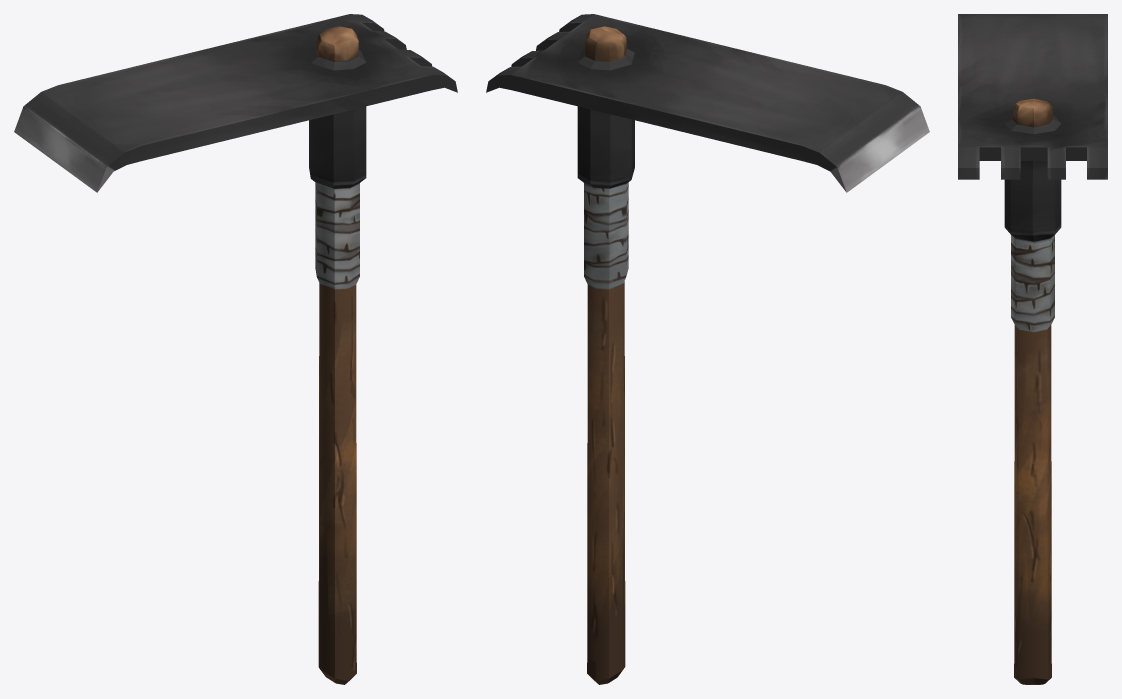
File: SurvivalTools_Hoe.fbx
3 renders of one model, left to right at view 1: azimuth 30°, elevation 25°; view 2: azimuth 150°, elevation 25°; view 3: azimuth 270°, elevation 25°, orthographic. The views are drawn at different scales.
Visible parts, largest first — view 1: Hoe_MDL; view 2: Hoe_MDL; view 3: Hoe_MDL.
Part boxes in pixels (x1,y1,x2,y2): Hoe_MDL: [14, 14, 457, 684]; Hoe_MDL: [486, 14, 929, 684]; Hoe_MDL: [958, 14, 1107, 684].
Size of the model in its own units: 11.71 by 20.2 by 4.68.
